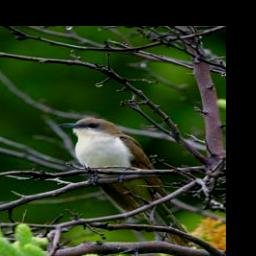Cuckoo: (64, 115, 199, 249)
